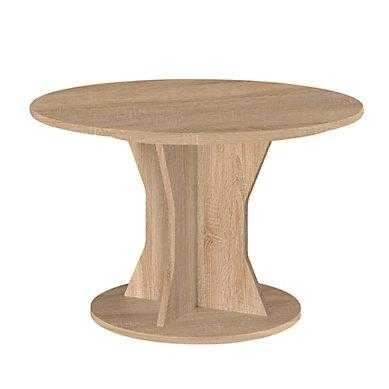obstacle: (30, 79, 362, 342)
